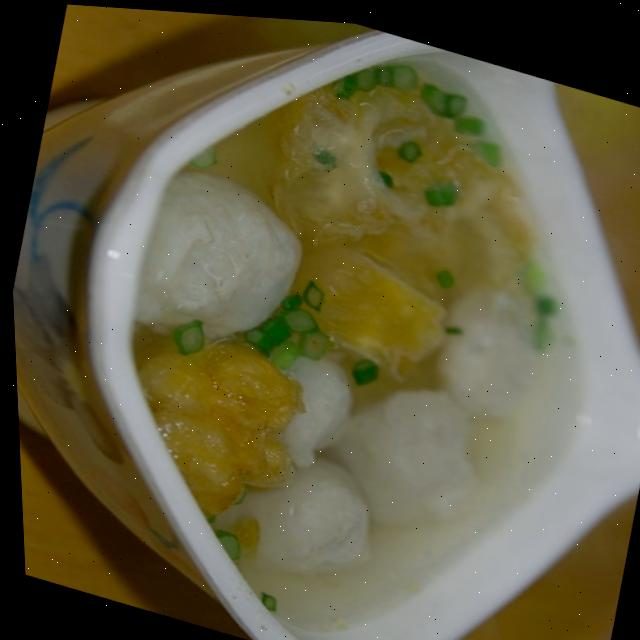熟制海鲜: (43, 14, 640, 640)
